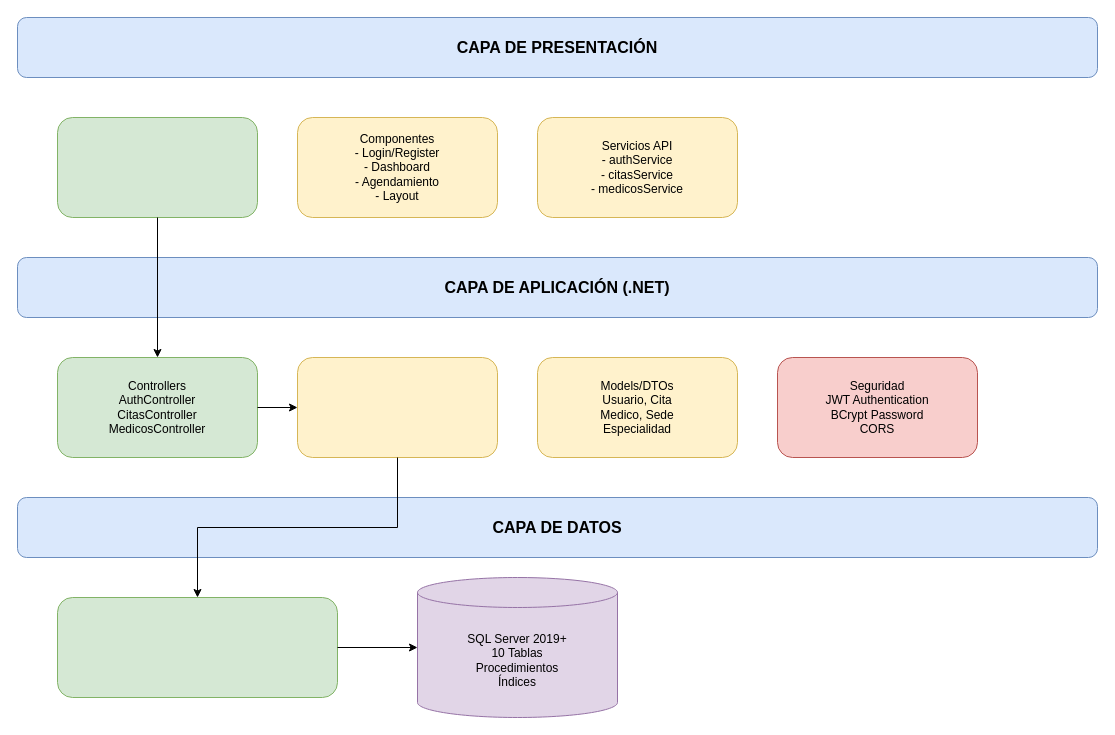
Some shapes in this 1115 by 735 pixel diagram are drawn without their labels. The centre of each missing label's shape, as x and y in pixels:
Entity Framework Core DbContext Repository Pattern: (x=197, y=647)
React 18 + TypeScript TailwindCSS React Router: (x=157, y=167)
Services AuthService CitasService MedicosService: (x=397, y=407)
